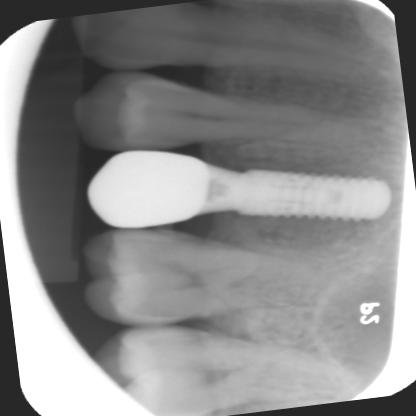ITI: (196, 154, 398, 226)
